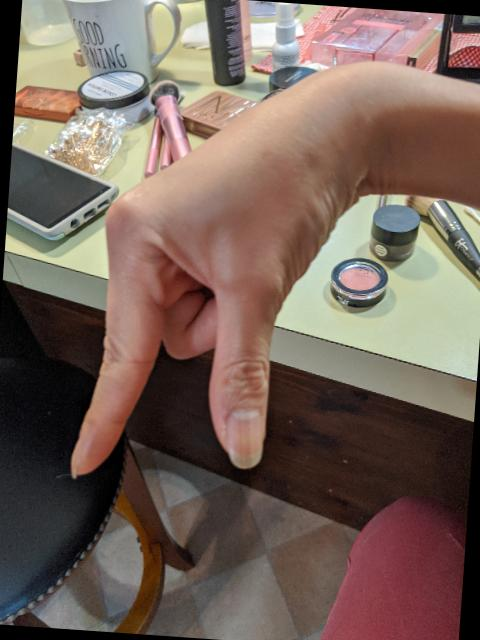Q: (59, 36, 380, 503)
